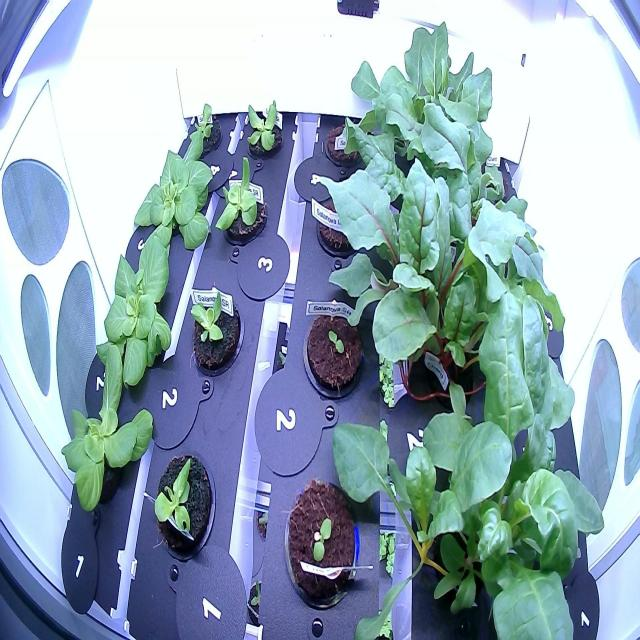germination: (276, 464, 364, 620), (299, 289, 366, 405)
pod: (312, 179, 378, 270), (320, 108, 372, 174)
young: (55, 336, 160, 518), (96, 227, 176, 392), (128, 125, 218, 269), (150, 439, 221, 565), (185, 279, 248, 389), (214, 150, 273, 252), (242, 88, 290, 167), (178, 90, 226, 163)
